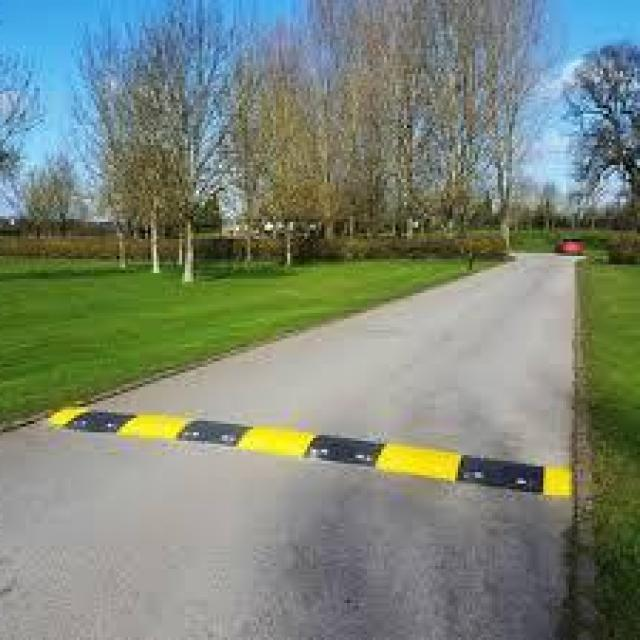Marked Bump: (75, 395, 562, 525)
